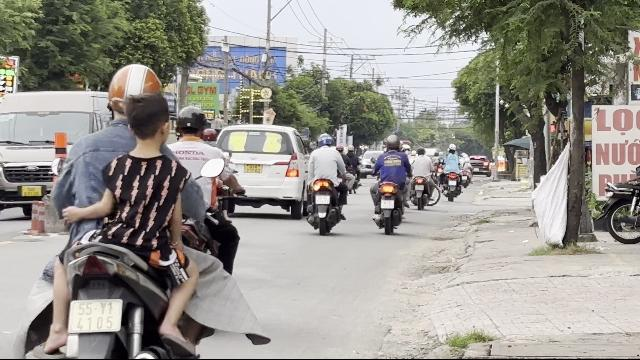helmet: (105, 62, 172, 134), (174, 105, 210, 139)
licenseplate: (68, 298, 122, 334)
motorcyclist: (23, 62, 251, 356)
nohelmet: (123, 92, 175, 154)
